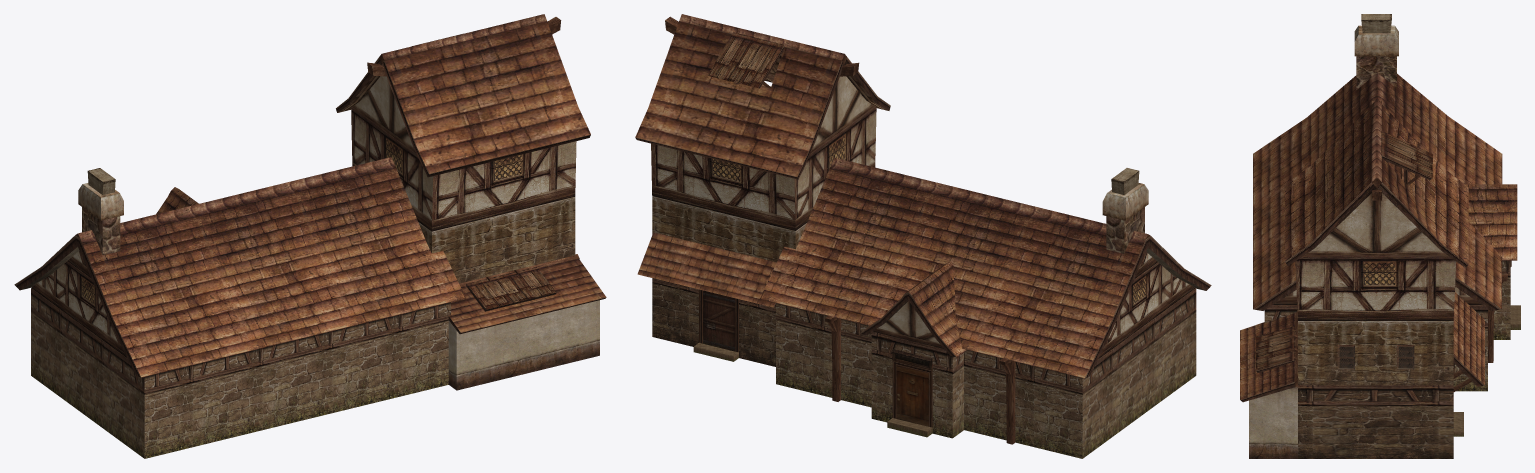
Rendered from ti_house_01.glb.
3 views of the same model, side by side, from view 1: azimuth 30°, elevation 25°; view 2: azimuth 150°, elevation 25°; view 3: azimuth 270°, elevation 25° (orthographic).
Parts seen in each view (by area): view 1: TI_House_01; view 2: TI_House_01; view 3: TI_House_01.
Boxes of the visible parts, x1,y1,x2,y2 form: TI_House_01: (14,14,606,458); TI_House_01: (635,14,1211,458); TI_House_01: (1240,14,1520,458).
Bounding box in the file's own units: 6.59 × 3.82 × 3.39.
Materials: 27 (27 with a texture image).
